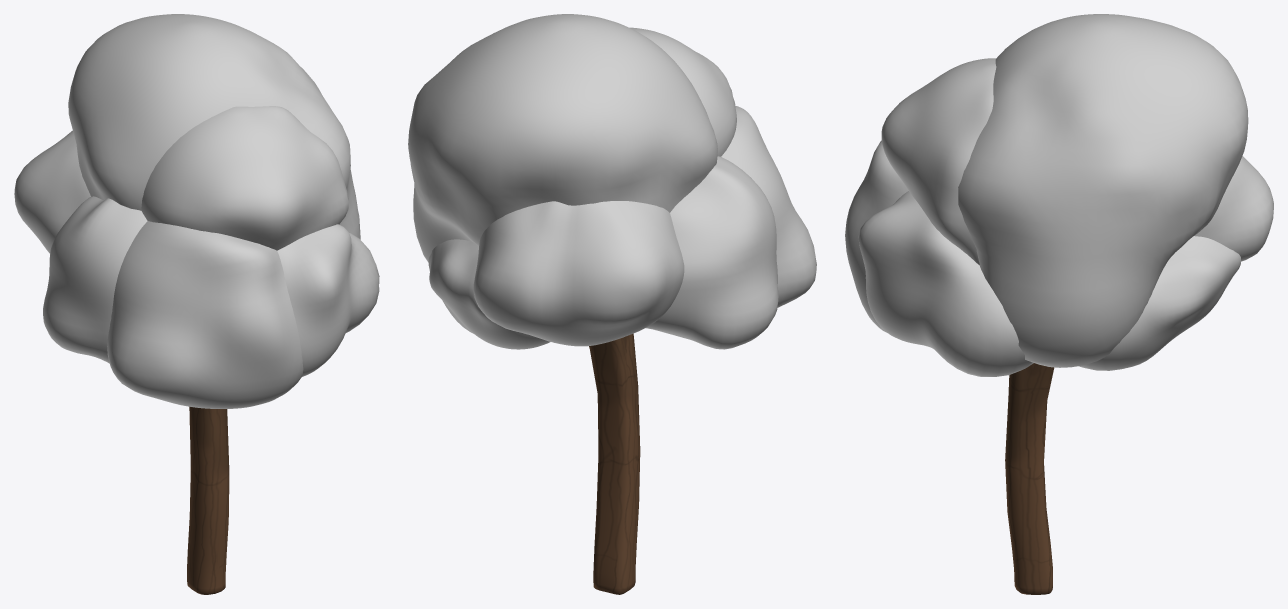
Rendered from tree.fbx.
3 views of the same model, side by side, from view 1: azimuth 30°, elevation 25°; view 2: azimuth 150°, elevation 25°; view 3: azimuth 270°, elevation 25° (orthographic). The views are drawn at different scales.
Parts seen in each view (by area): view 1: Sphere.006, Cube; view 2: Sphere.006, Cube; view 3: Sphere.006, Cube.
Part boxes in pixels (left/top/right/bottom): Sphere.006: left=14, top=14, right=379, bottom=408; Cube: left=187, top=406, right=229, bottom=594; Sphere.006: left=408, top=14, right=816, bottom=349; Cube: left=589, top=333, right=640, bottom=594; Sphere.006: left=845, top=14, right=1273, bottom=376; Cube: left=1005, top=363, right=1054, bottom=594.
Bounding box in the file's own units: 486 × 811 × 550.
